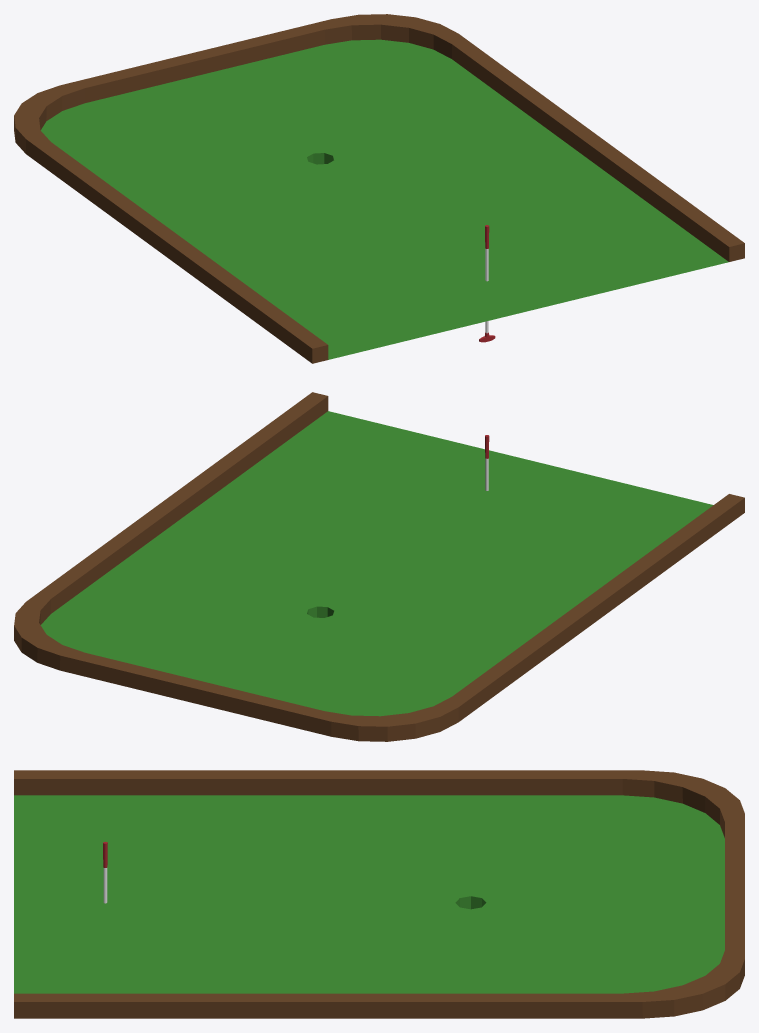
Rendered from golfdemoassets.fbx.
3 renders of one model, top to bottom at view 1: azimuth 30°, elevation 25°; view 2: azimuth 150°, elevation 25°; view 3: azimuth 270°, elevation 25°, orthographic. The views are drawn at different scales.
Visible parts, largest first — view 1: GolfPlaneCorner.001, GolfPlaneRim.004, GolfPlaneRimEndRight, GolfPlaneRim, GolfPlaneRim.001, GolfPlaneCorner, GolfPlaneRimEndLeft, GolfPlaneRim.003, GolfPlaneRim.002, GolfPlaneHole, GolfPlane1.001, GolfPlane1; view 2: GolfPlaneRim.001, GolfPlaneRimEndRight, GolfPlaneRim, GolfPlaneRim.002, GolfPlaneRim.004, GolfPlaneRimEndLeft, GolfPlaneRim.003, GolfPlane1.001, GolfPlaneHole, GolfPlane1, GolfPlaneCorner.001, GolfPlaneCorner; view 3: GolfPlaneRim.002, GolfPlaneRim.003, GolfPlaneRimEndLeft, GolfPlaneCorner, GolfPlaneRim, GolfPlaneRim.001, GolfPlane1.001, GolfPlaneHole, GolfPlaneRimEndRight, GolfPlaneRim.004, GolfPlane1, GolfPlaneCorner.001.
Part boxes in pixels (x1=…): GolfPlaneCorner.001: x1=268, y1=14, x2=494, y2=110; GolfPlaneRim.004: x1=124, y1=34, x2=350, y2=145; GolfPlaneRimEndRight: x1=518, y1=182, x2=744, y2=293; GolfPlaneRim: x1=435, y1=121, x2=661, y2=232; GolfPlaneRim.001: x1=351, y1=60, x2=577, y2=171; GolfPlaneCorner: x1=14, y1=70, x2=206, y2=180; GolfPlaneRimEndLeft: x1=229, y1=268, x2=455, y2=363; GolfPlaneRim.003: x1=146, y1=207, x2=372, y2=302; GolfPlaneRim.002: x1=62, y1=146, x2=289, y2=241; GolfPlaneHole: x1=207, y1=110, x2=433, y2=206; GolfPlane1.001: x1=290, y1=171, x2=516, y2=267; GolfPlane1: x1=373, y1=232, x2=600, y2=328; GolfPlaneRim.001: x1=63, y1=514, x2=289, y2=624; GolfPlaneRimEndRight: x1=229, y1=392, x2=455, y2=503; GolfPlaneRim: x1=146, y1=453, x2=372, y2=563; GolfPlaneRim.002: x1=351, y1=599, x2=578, y2=694; GolfPlaneRim.004: x1=123, y1=625, x2=350, y2=720; GolfPlaneRimEndLeft: x1=518, y1=477, x2=744, y2=573; GolfPlaneRim.003: x1=434, y1=538, x2=661, y2=633; GolfPlane1.001: x1=290, y1=503, x2=517, y2=599; GolfPlaneHole: x1=207, y1=564, x2=433, y2=660; GolfPlane1: x1=374, y1=442, x2=600, y2=538; GolfPlaneCorner.001: x1=14, y1=575, x2=206, y2=685; GolfPlaneCorner: x1=267, y1=660, x2=495, y2=741; GolfPlaneRim.002: x1=379, y1=770, x2=562, y2=863; GolfPlaneRim.003: x1=196, y1=770, x2=379, y2=863; GolfPlaneRimEndLeft: x1=14, y1=770, x2=196, y2=863; GolfPlaneCorner: x1=562, y1=770, x2=744, y2=863; GolfPlaneRim: x1=196, y1=941, x2=379, y2=1018; GolfPlaneRim.001: x1=379, y1=941, x2=562, y2=1018; GolfPlane1.001: x1=196, y1=864, x2=379, y2=941; GolfPlaneHole: x1=379, y1=864, x2=562, y2=941; GolfPlaneRimEndRight: x1=14, y1=941, x2=196, y2=1018; GolfPlaneRim.004: x1=562, y1=847, x2=744, y2=941; GolfPlane1: x1=14, y1=864, x2=196, y2=941; GolfPlaneCorner.001: x1=562, y1=925, x2=744, y2=1018.
Size of the model in its own units: 300 by 76.27 by 400.
